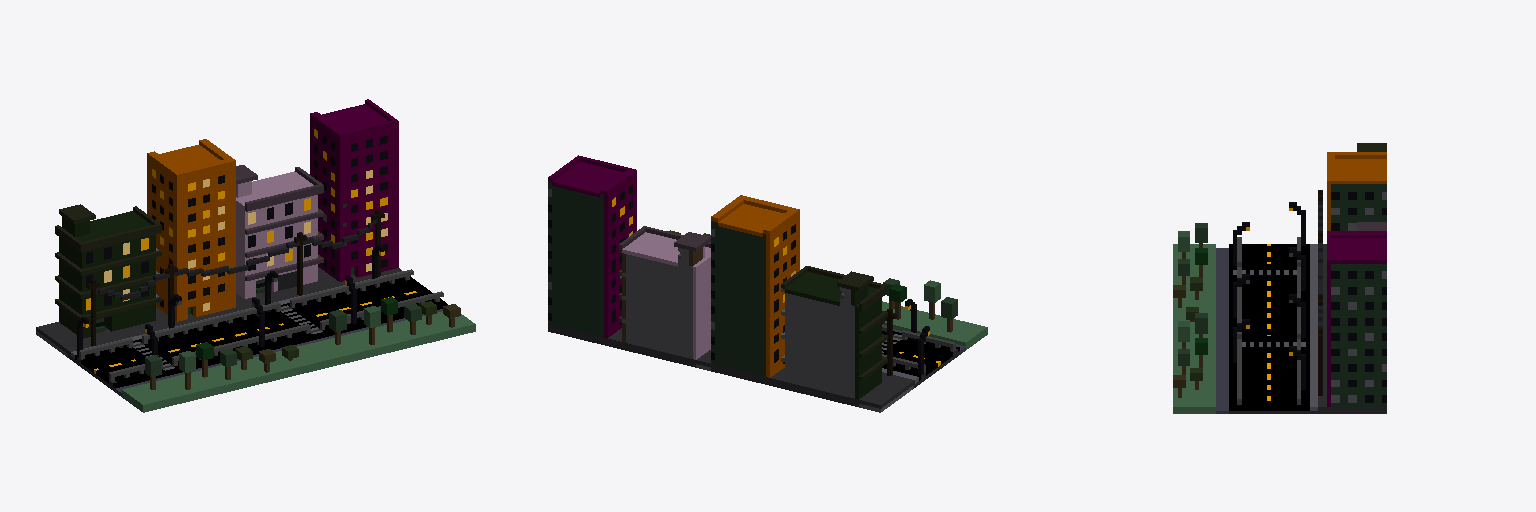
The picture shows the model from 3 angles: view 1: azimuth 30°, elevation 25°; view 2: azimuth 150°, elevation 25°; view 3: azimuth 270°, elevation 25°; orthographic projection.
Visible parts, largest first — view 1: object 1; view 2: object 1; view 3: object 1.
Boxes of the visible parts, x1,y1,x2,y2 form: object 1: [36, 99, 475, 412]; object 1: [548, 155, 987, 412]; object 1: [1173, 143, 1386, 413].
Size of the model in its own units: 9 by 4 by 5.
Materials: 1 (1 with a texture image).